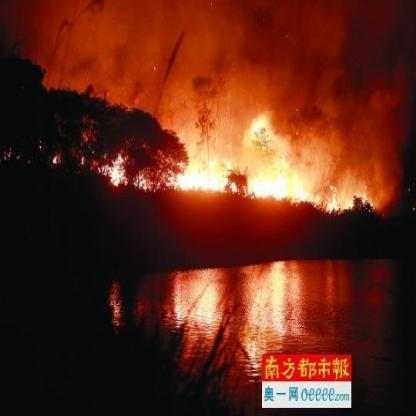fire: (58, 130, 395, 222)
smoke: (46, 7, 405, 119)
